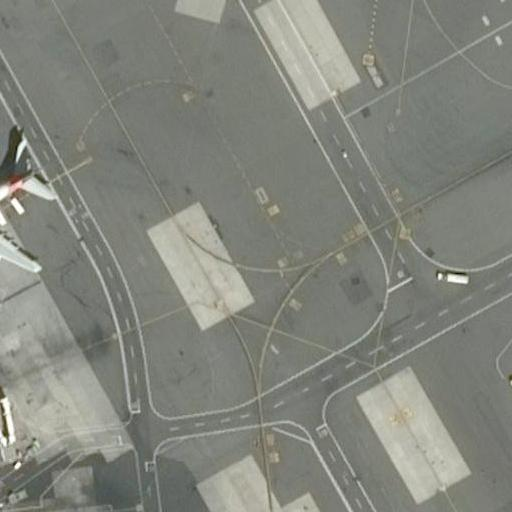Aircraft: (0, 110, 57, 280)
